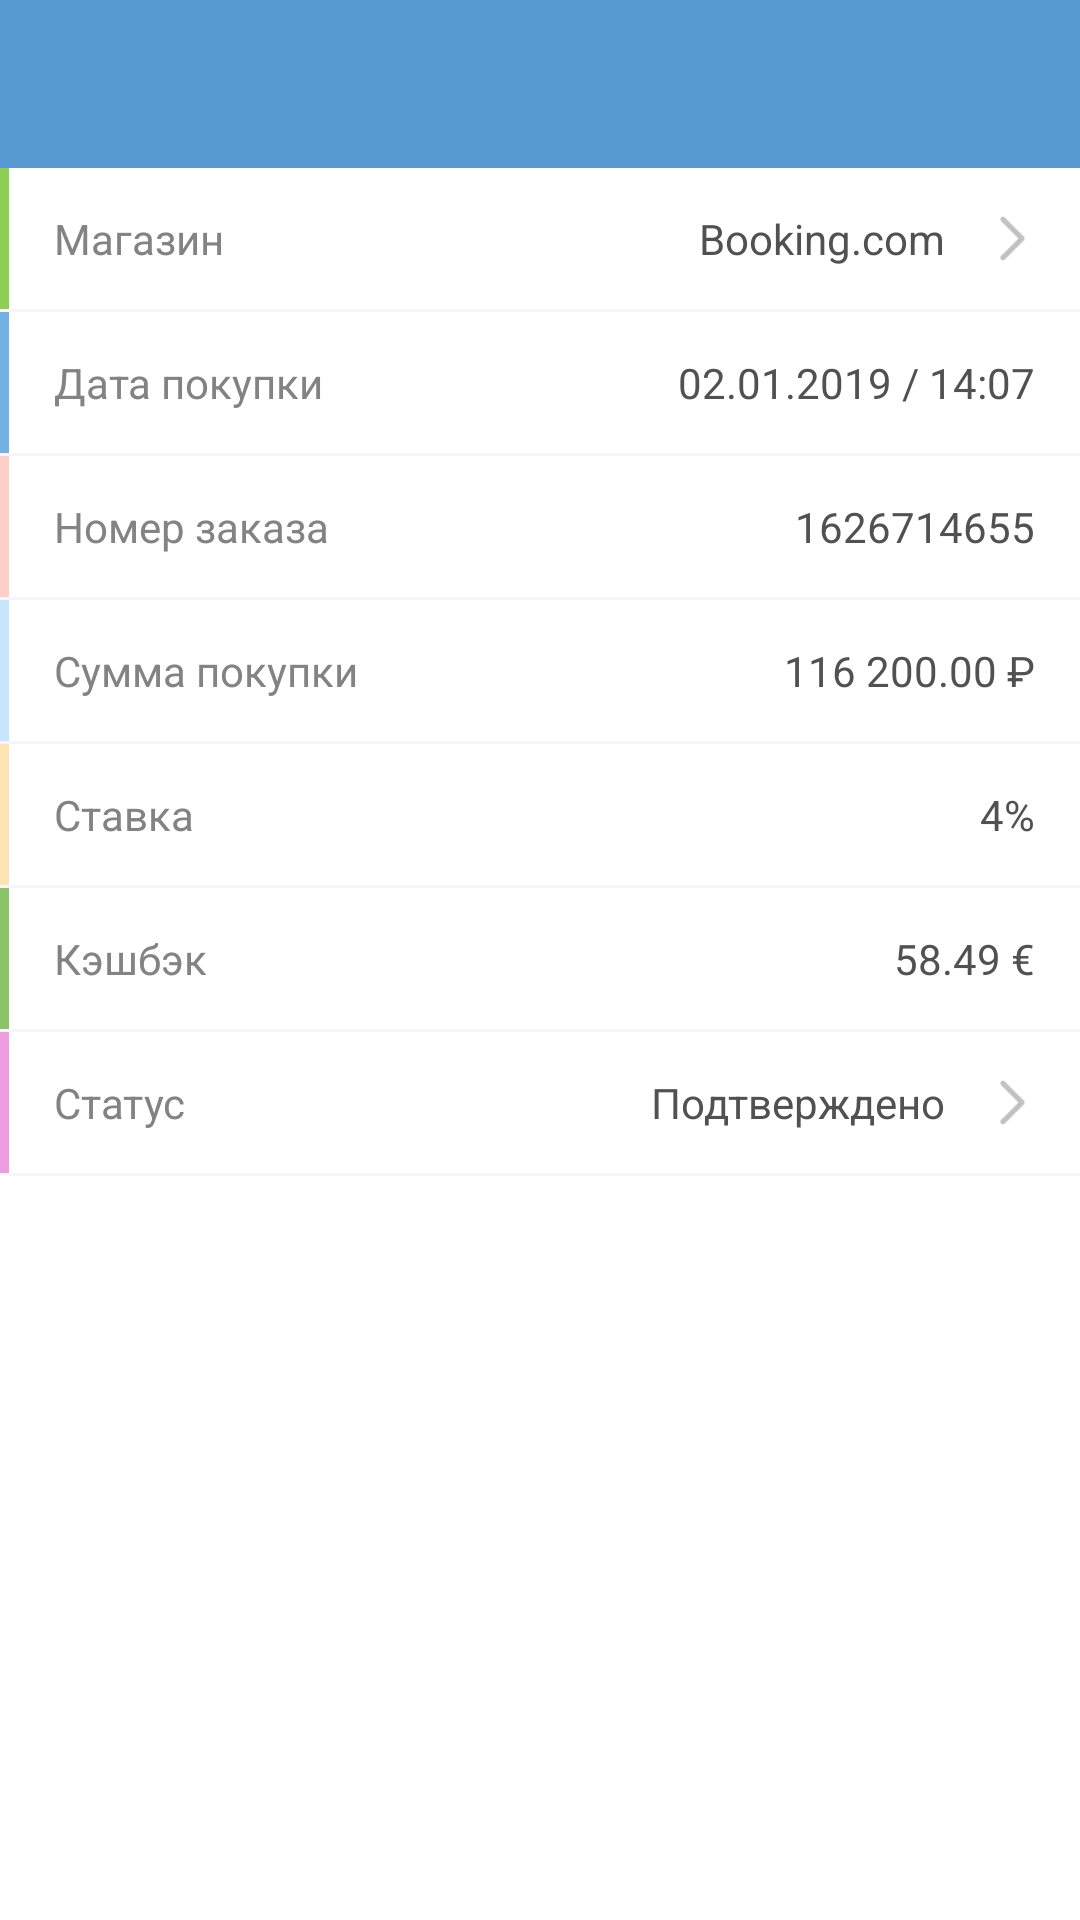

Icons on this 1080*1920 Android screen, each with its box as {"left": x1, "top": y1, "right": x2, "bottom": y2}:
iconrighttoarrow: {"left": 1000, "top": 217, "right": 1025, "bottom": 260}, {"left": 1000, "top": 1081, "right": 1025, "bottom": 1124}
